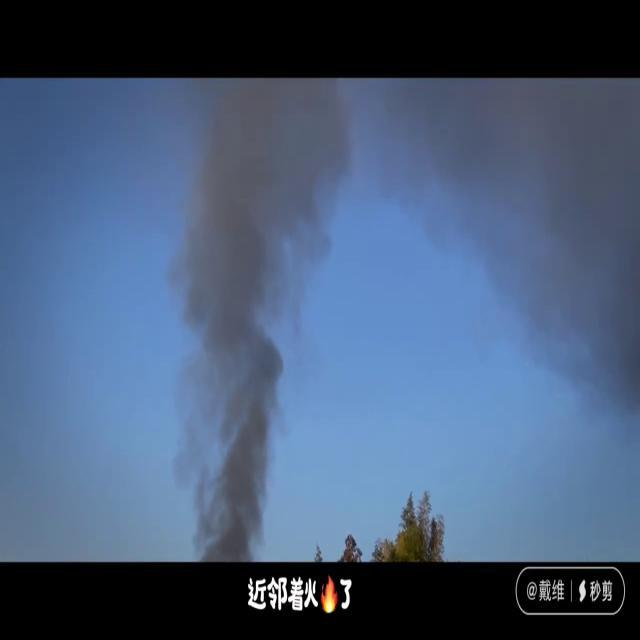Fire: (322, 572, 337, 616)
Smoke: (165, 79, 355, 557)
